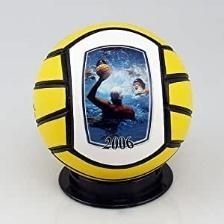Sports-Ball: (34, 26, 192, 186)
